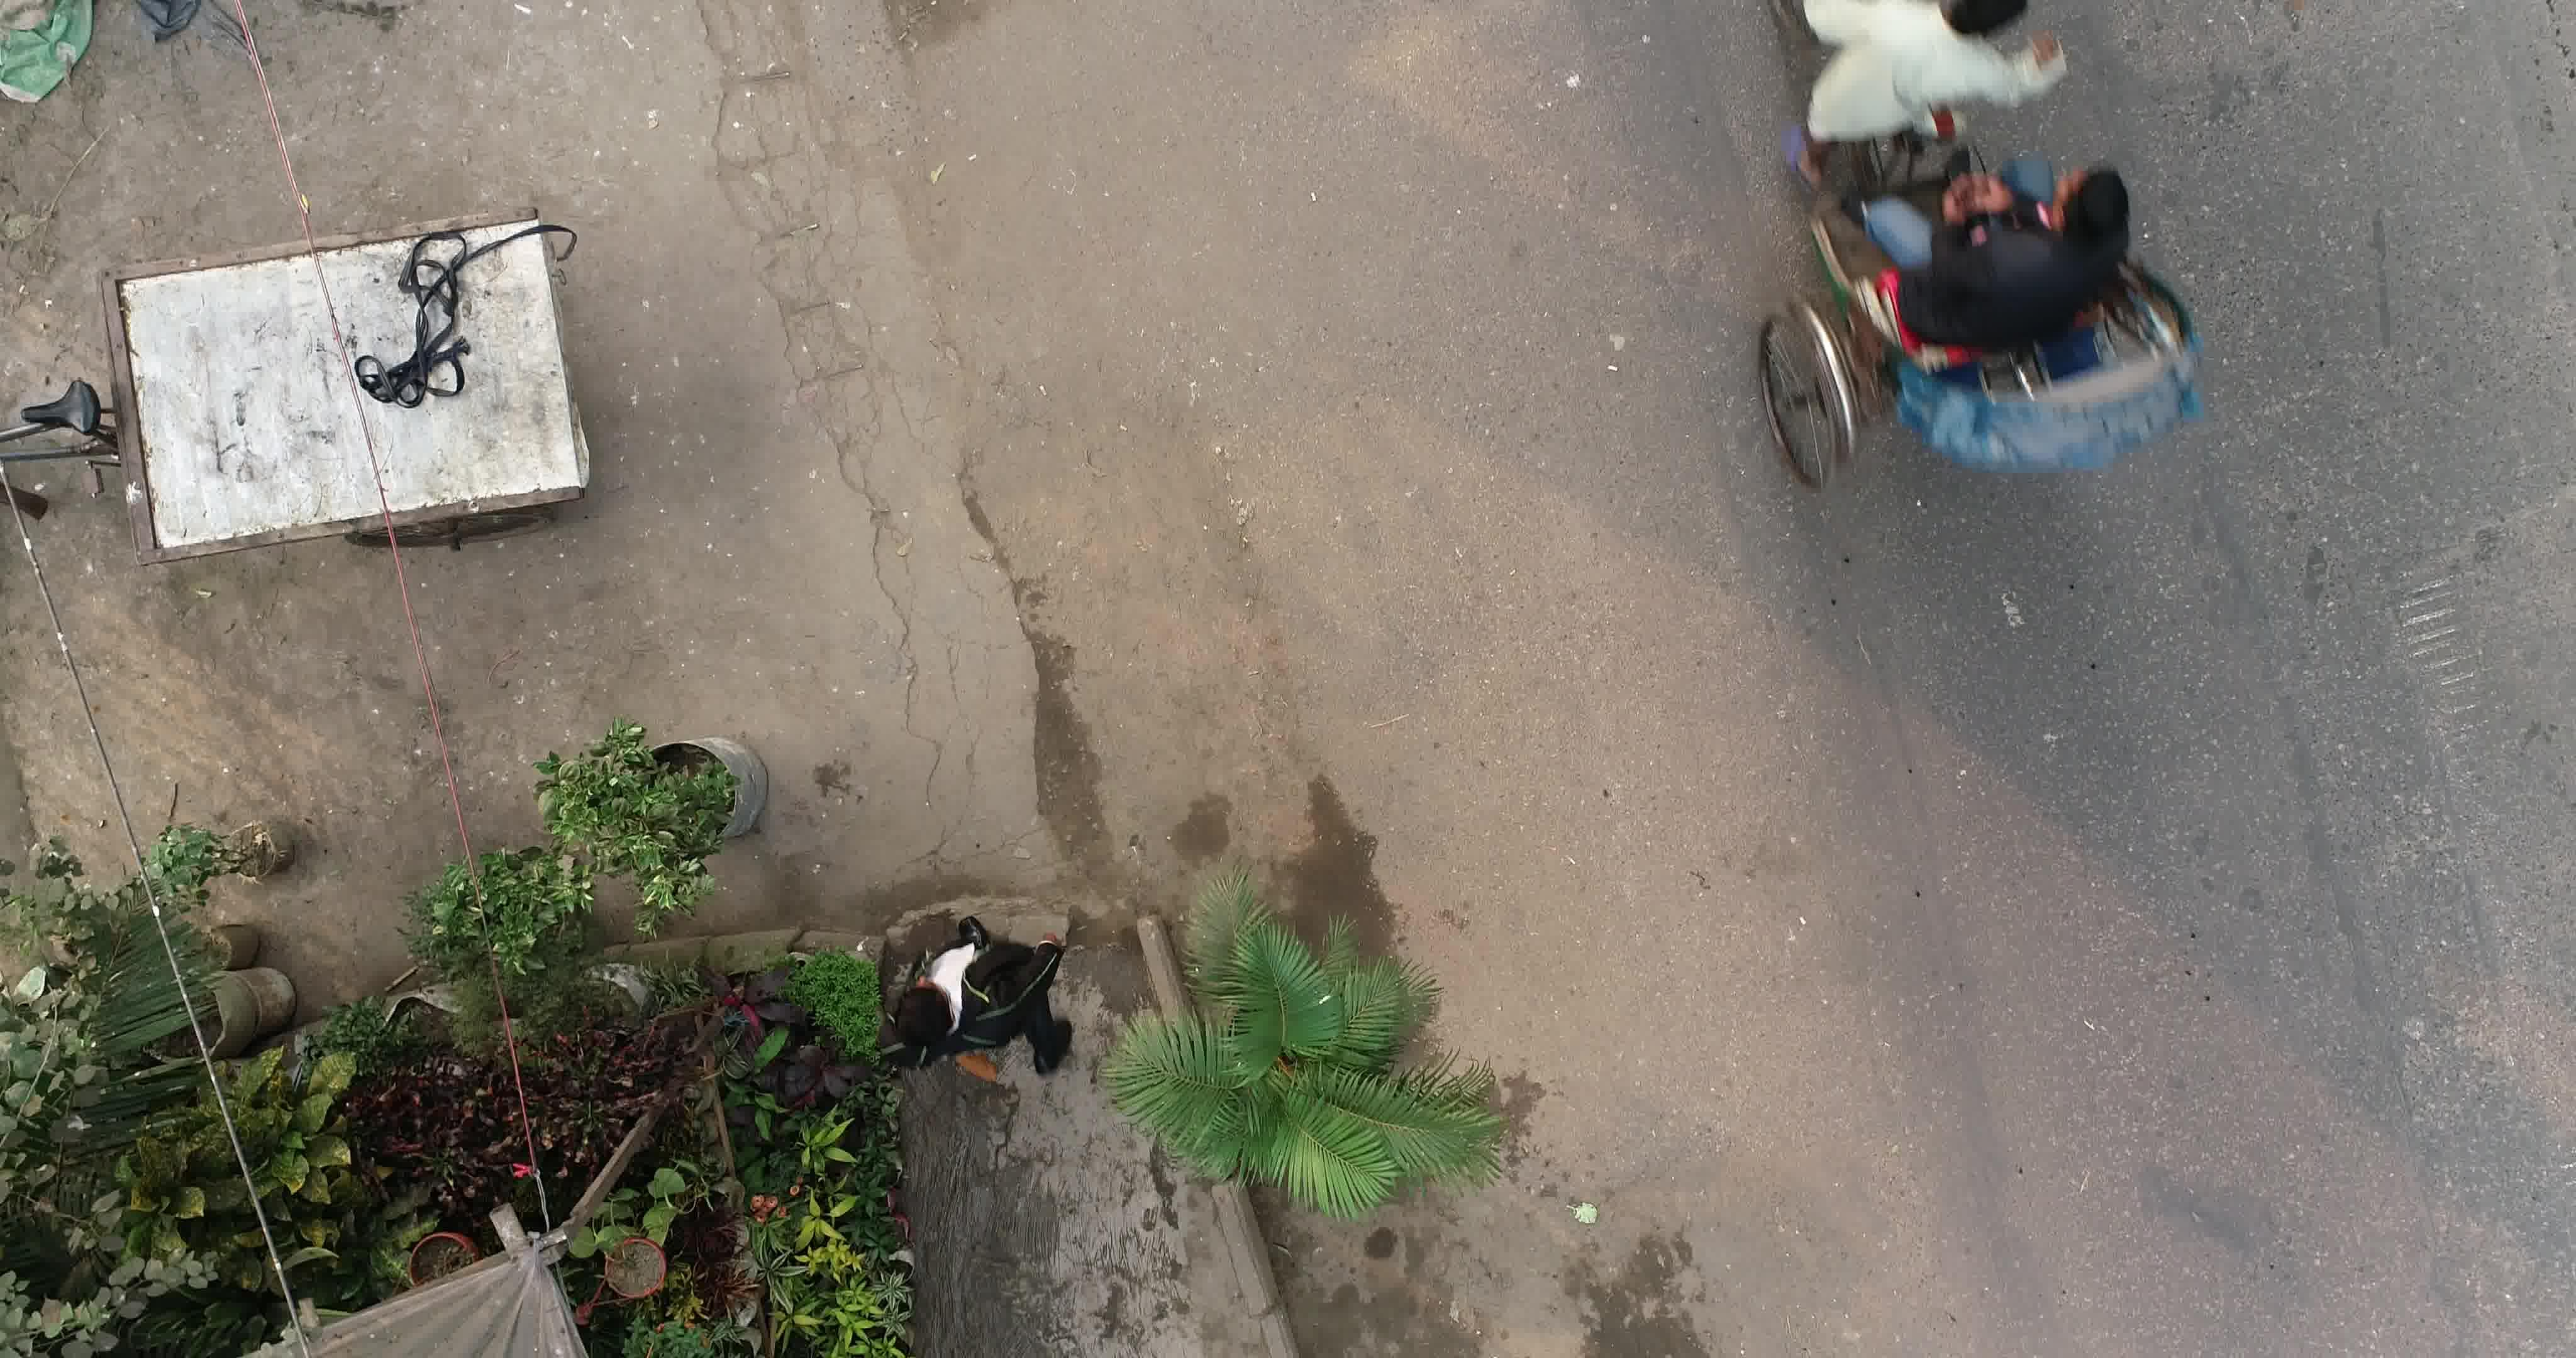manual-van: (3, 216, 625, 584)
rickshaw: (1748, 0, 2205, 469)
